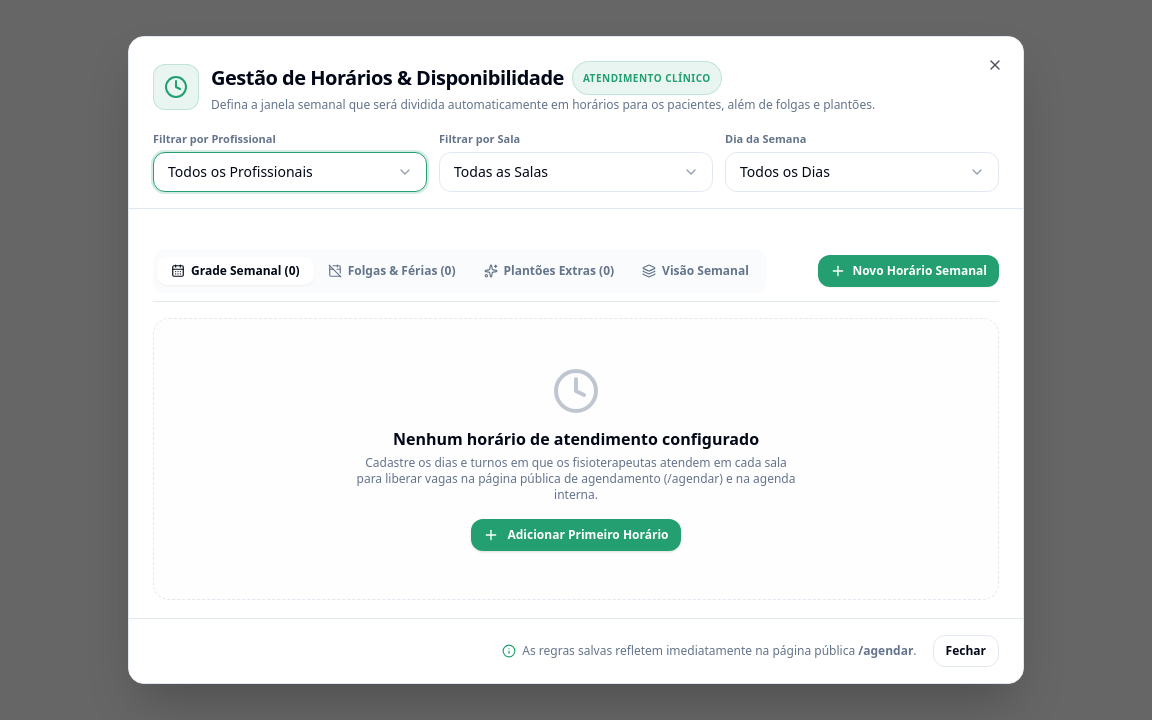
AvailabilityManagerModal exibe opções dinâmicas e botão para gerenciar especialidades
The image size is (1152, 720).
Abre form de criar horário
Click the button "Adicionar Primeiro Horário": point(576, 534) [472,518,680,550]
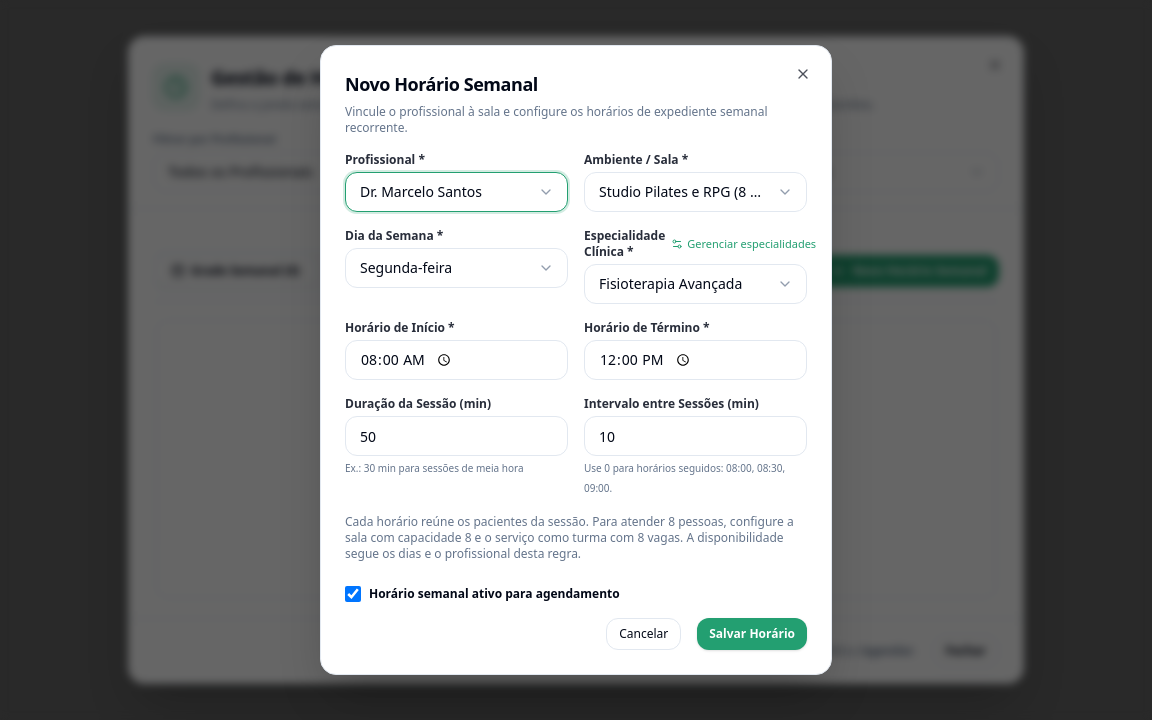
Now the button "Gerenciar especialidades" is shown
Clica para abrir o gestor embutido
Click the button "Gerenciar especialidades": point(744, 244) [665,232,822,256]
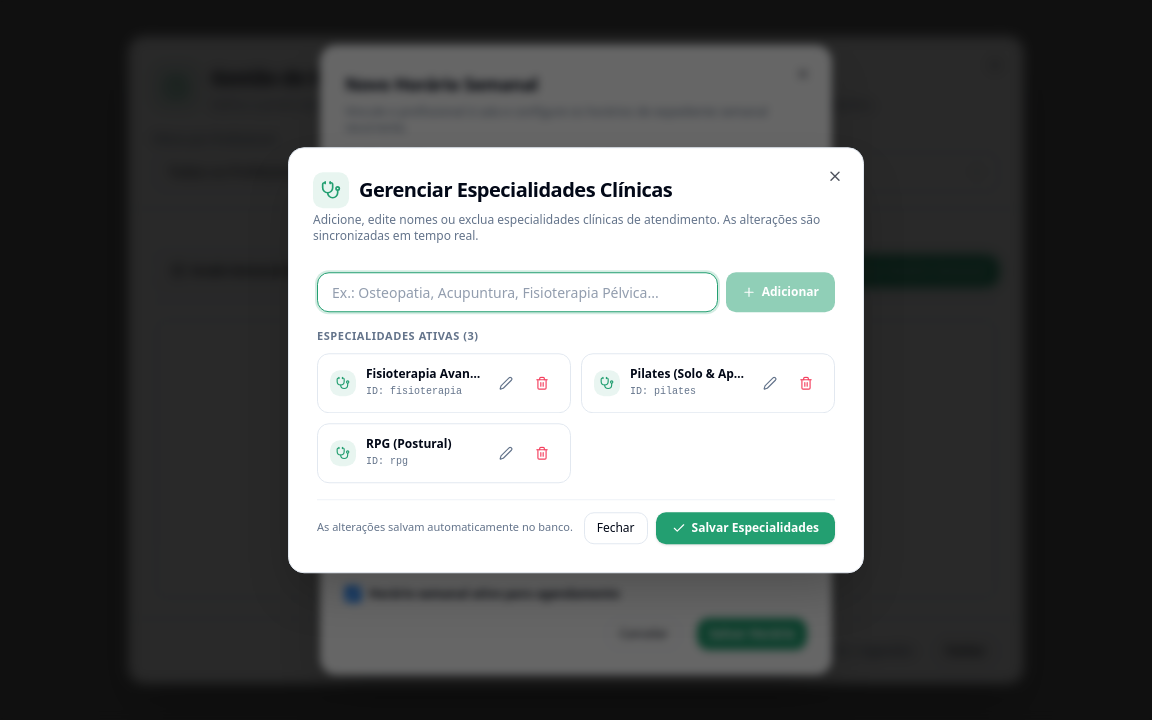
Now the text "Gerenciar Especialidades Clínicas" is shown, box [359,176,672,204]
